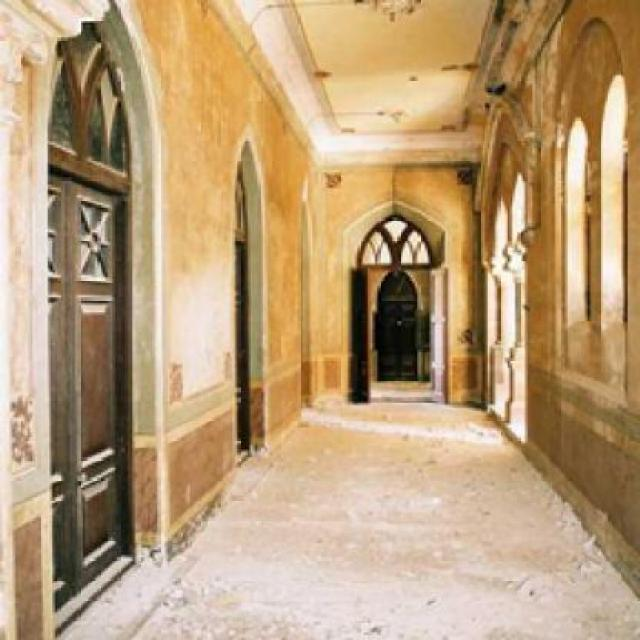Floor: (58, 378, 638, 637)
